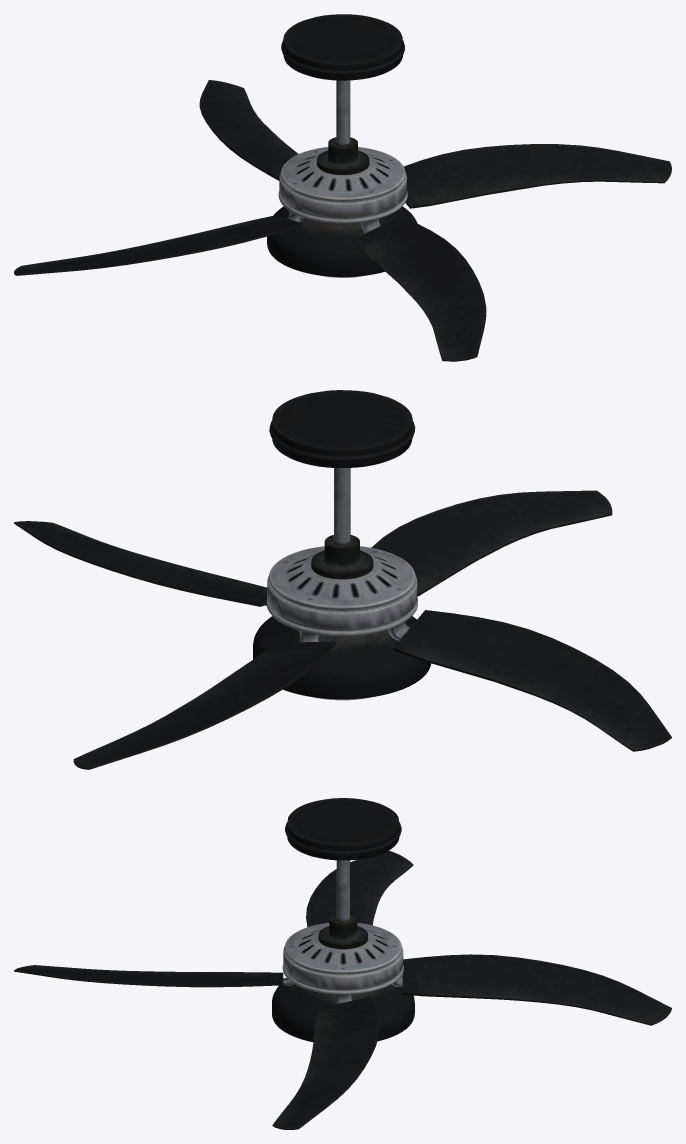
File: ceiling_fan.glb
3 renders of one model, top to bottom at view 1: azimuth 30°, elevation 25°; view 2: azimuth 150°, elevation 25°; view 3: azimuth 270°, elevation 25°, orthographic. The views are drawn at different scales.
Bounding box in the file's own units: 1.46 × 0.5163 × 1.46.
Materials: 1 (1 with a texture image).
